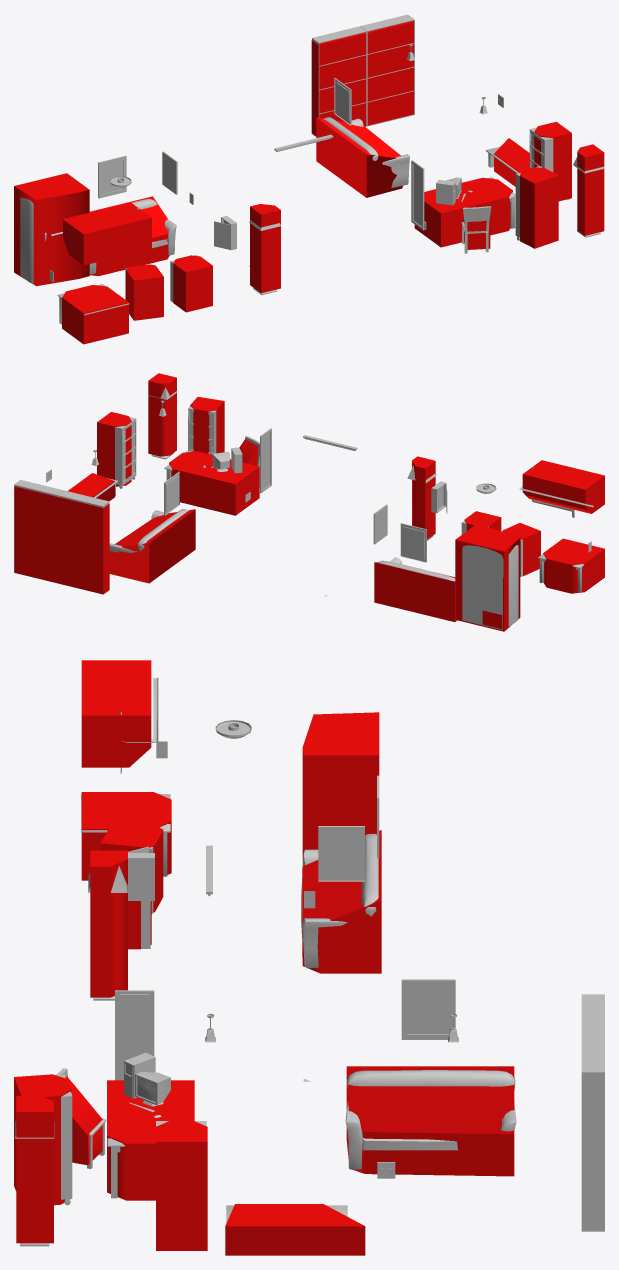
File: Building_06_Int_Props.dae
The picture shows the model from 3 angles, top to bottom: view 1: azimuth 30°, elevation 25°; view 2: azimuth 150°, elevation 25°; view 3: azimuth 270°, elevation 25°; orthographic projection. The views are drawn at different scales.
Parts seen in each view (by area): view 1: colmesh-2, building_06_int800; view 2: colmesh-2, building_06_int800; view 3: colmesh-2, building_06_int800.
Part boxes in pixels (x1,y1,x2,y2): colmesh-2: (14,21,604,344); building_06_int800: (20,14,604,324); colmesh-2: (14,373,604,631); building_06_int800: (14,387,593,630); colmesh-2: (14,660,514,1255); building_06_int800: (15,677,604,1246).
Bounding box in the file's own units: 159 × 40.56 × 93.5.
